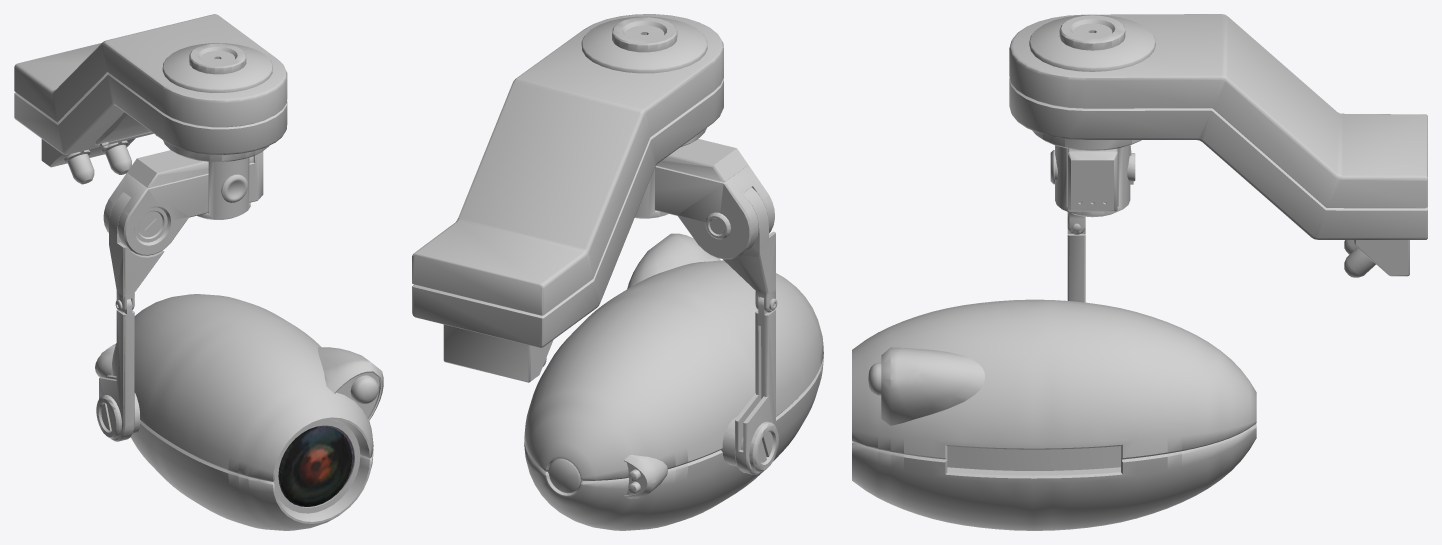
File: Camera_Bot.obj
3 renders of one model, left to right at view 1: azimuth 30°, elevation 25°; view 2: azimuth 150°, elevation 25°; view 3: azimuth 270°, elevation 25°, orthographic. The views are drawn at different scales.
Parts seen in each view (by area): view 1: g4_SK_Character_CameraBot_D_01.001, g2_SK_Character_CameraBot_D_01.001; view 2: g4_SK_Character_CameraBot_D_01.001; view 3: g4_SK_Character_CameraBot_D_01.001.
Part boxes in pixels (x1,y1,x2,y2): g4_SK_Character_CameraBot_D_01.001: (14,14,383,530); g2_SK_Character_CameraBot_D_01.001: (278,425,353,506); g4_SK_Character_CameraBot_D_01.001: (412,14,823,530); g4_SK_Character_CameraBot_D_01.001: (852,14,1427,530).
Size of the model in its own units: 1822 by 3835 by 4067.
